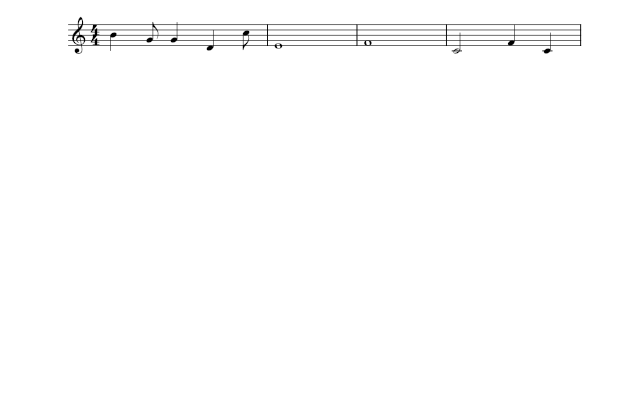Treble Clef: (68, 11, 88, 58)
